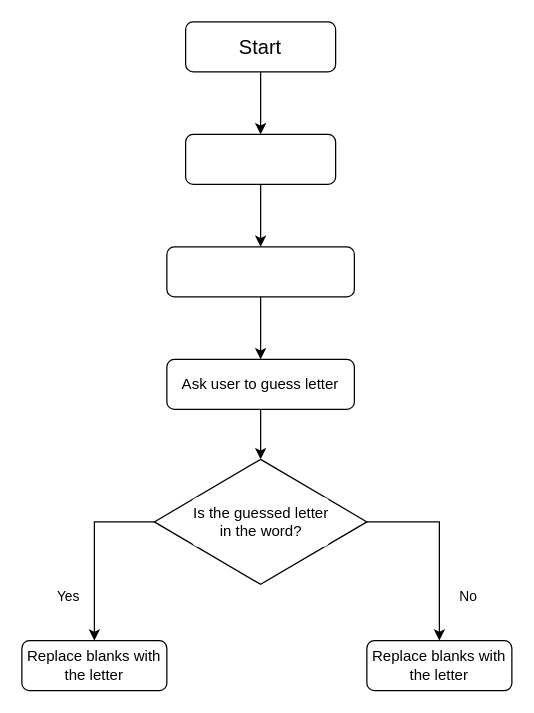
This 534x713 diagram has some shape labels left out. Here are the shapes that lost their labels. From the top down, the box of each, then its label:
(184, 133, 336, 184): Generate Random Word
(166, 246, 354, 297): Generate as many blanks as letters in words
